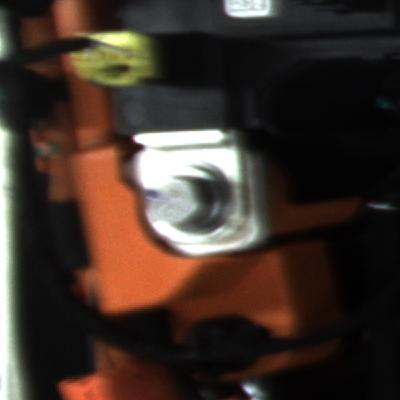nut_b: (141, 159, 242, 241)
